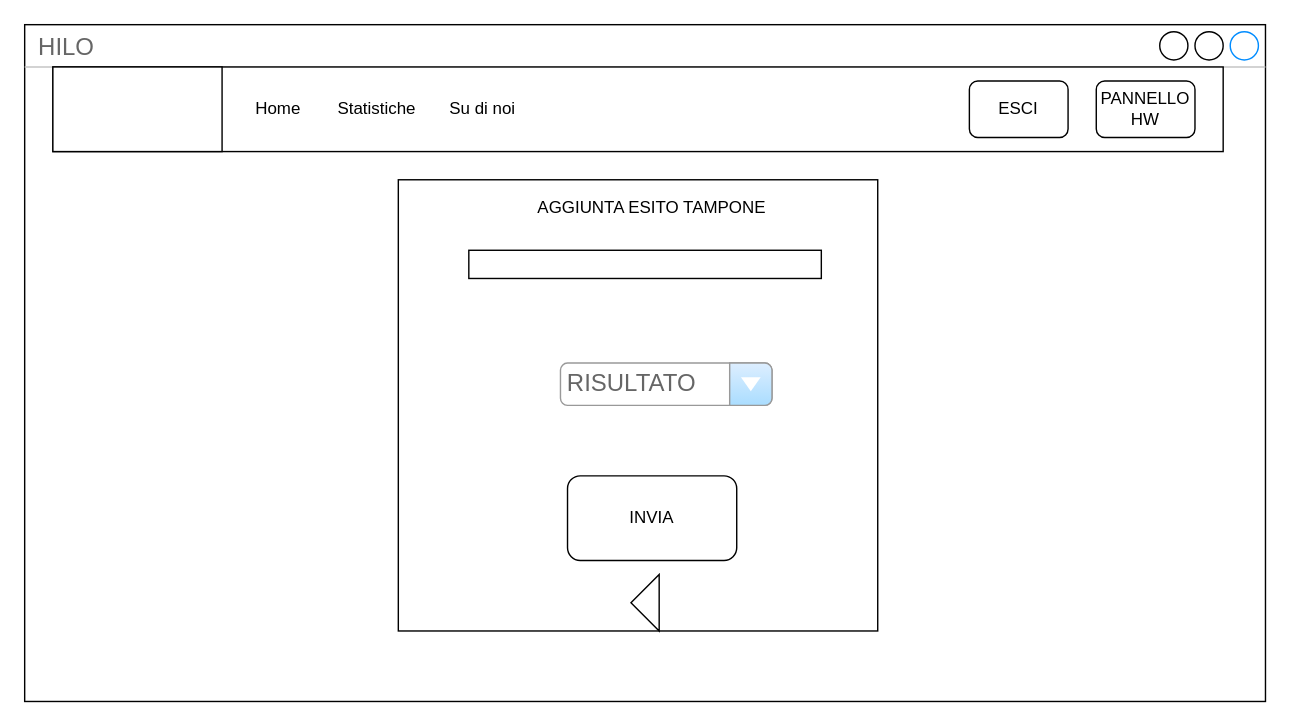
Some shapes in this 1290 by 726 pixel diagram are drawn without their labels. Each missing label, with the centre of its shape:
ID TAMPONE: the point at 644,263
LOGO: the point at 136,109
